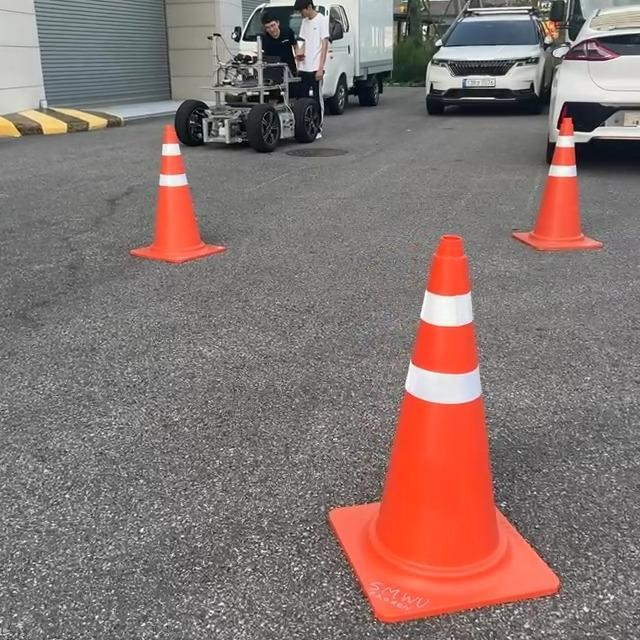fallen_object: (283, 204, 546, 640), (93, 102, 222, 303), (486, 97, 611, 277)
